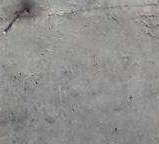Exposed reinforcement: (3, 14, 21, 33)
